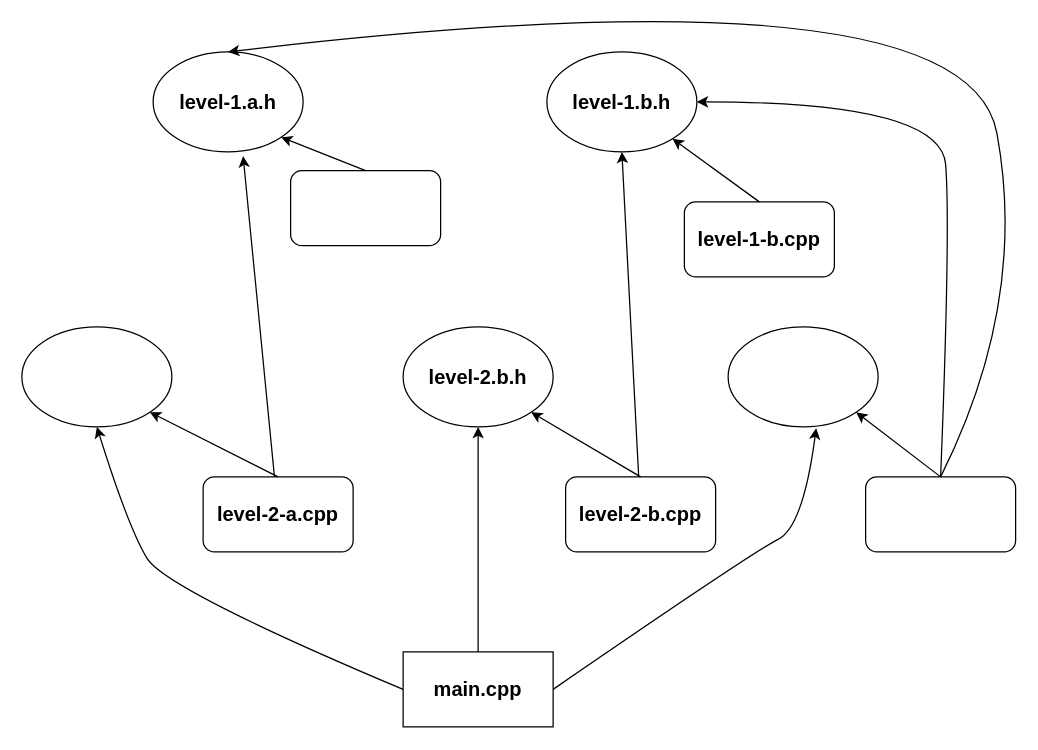
Some shapes in this 1038 by 750 pixel diagram are drawn without their labels. The shapes that lost their labels are listed below. From the top down, each one's box as (x1, y1, x2, y2) in pixels, then its label:
(289, 169, 441, 246): level-1-a.cpp
(21, 326, 172, 427): level-2.a.h
(727, 326, 878, 427): level-2.c.h
(864, 476, 1016, 552): level-2-c.cpp
